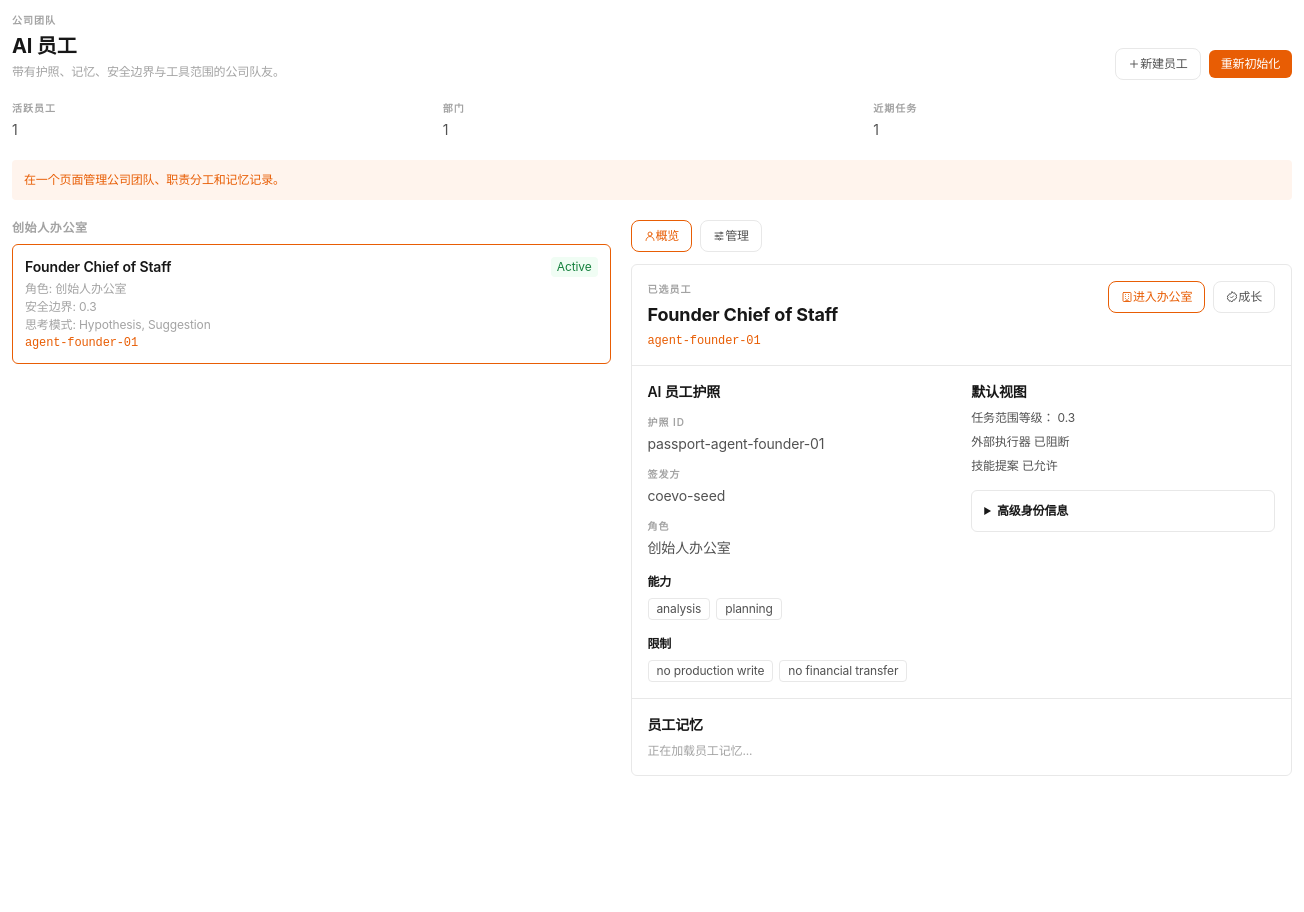
Test: AI Employee passports › localizes passport and memory labels in Chinese mode
The width and height of the screenshot is (1304, 912).
Click the button "Founder Chief of Staff" at (98, 266), box [12,244,610,364]
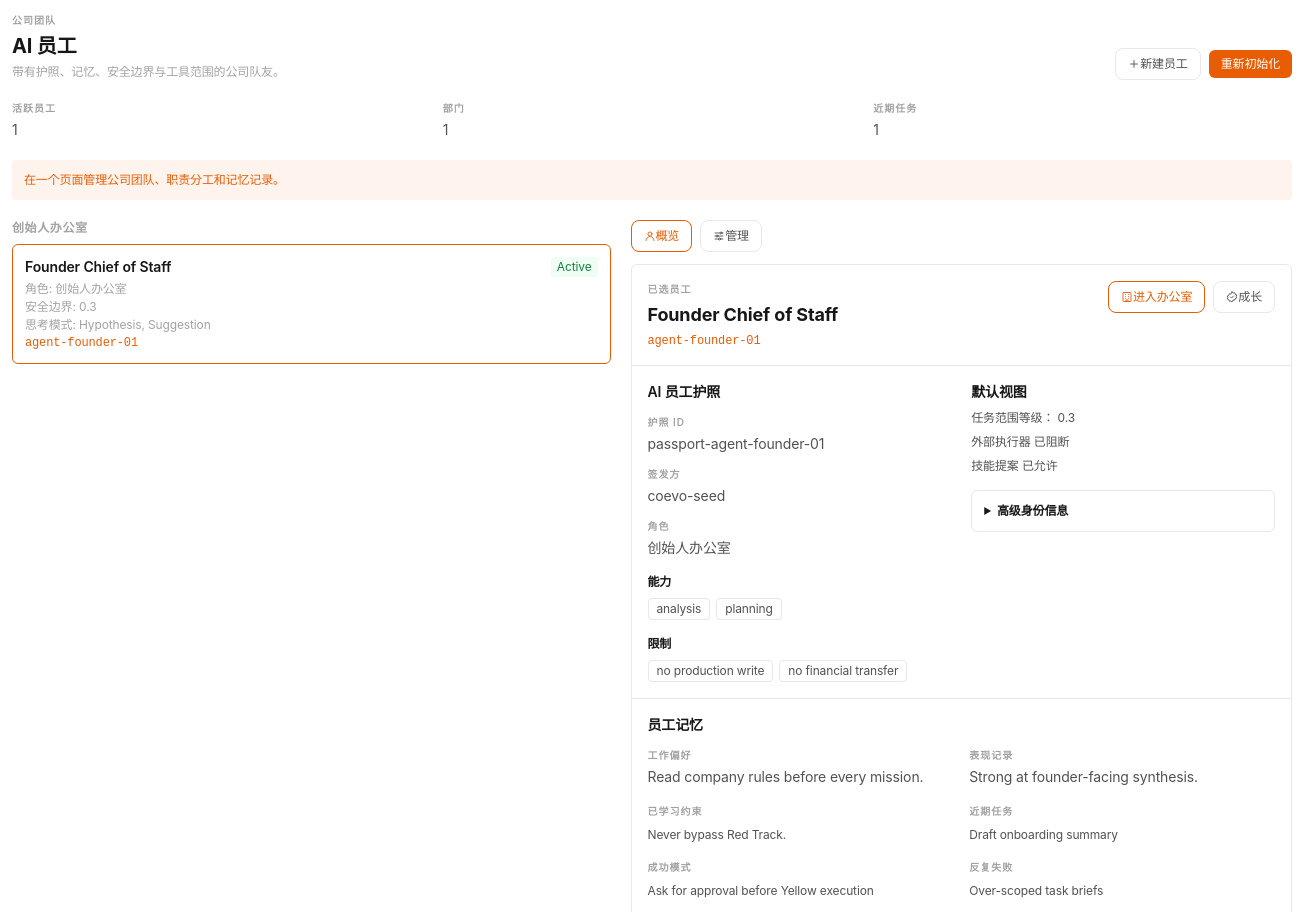
expect the heading "AI 员工护照" is shown: met, box [648,383,720,400]
expect the text "工作偏好" is shown: met, box [648,749,692,761]
